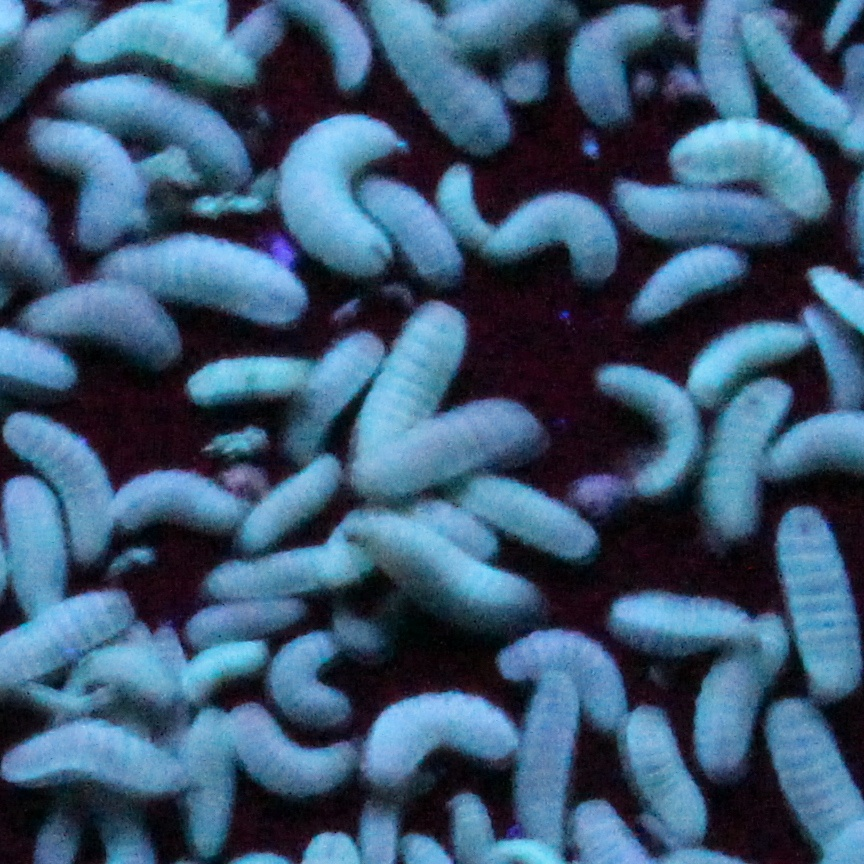larve: (329, 506, 538, 630), (271, 104, 402, 283), (349, 394, 544, 495), (97, 232, 311, 324), (67, 68, 246, 175), (355, 288, 471, 450), (664, 117, 837, 223), (9, 403, 129, 555), (337, 168, 477, 288), (586, 355, 702, 497), (704, 370, 795, 535), (498, 621, 629, 732), (13, 283, 184, 368), (227, 706, 375, 804), (367, 690, 520, 781), (607, 704, 711, 832), (735, 14, 853, 126), (453, 472, 593, 561), (38, 117, 133, 248), (566, 1, 667, 123), (613, 175, 795, 241), (278, 334, 377, 452), (695, 624, 771, 777), (238, 446, 347, 550), (515, 675, 577, 854), (609, 586, 758, 659), (491, 194, 620, 277), (202, 539, 387, 595), (115, 470, 258, 539), (257, 621, 351, 723), (46, 641, 178, 706), (693, 317, 797, 397), (635, 244, 747, 317), (182, 701, 231, 852), (435, 155, 507, 257), (171, 634, 269, 704), (188, 355, 326, 403), (8, 481, 58, 612), (184, 590, 306, 641), (413, 503, 495, 555)
